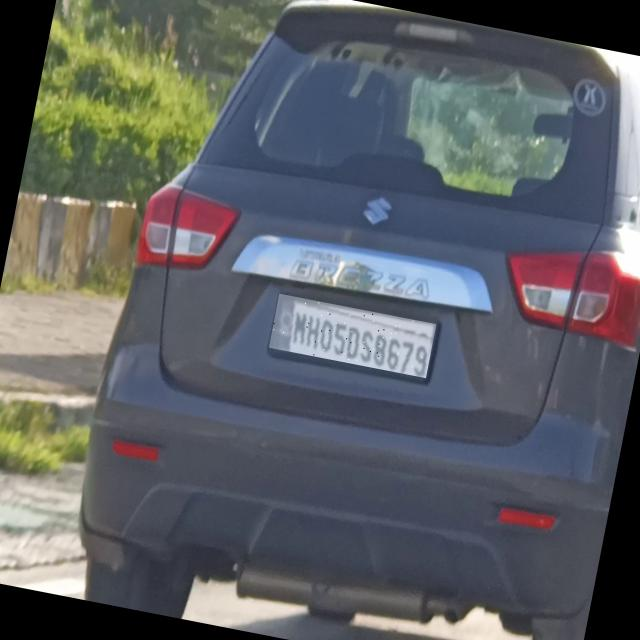Plate: (270, 295, 438, 380)
